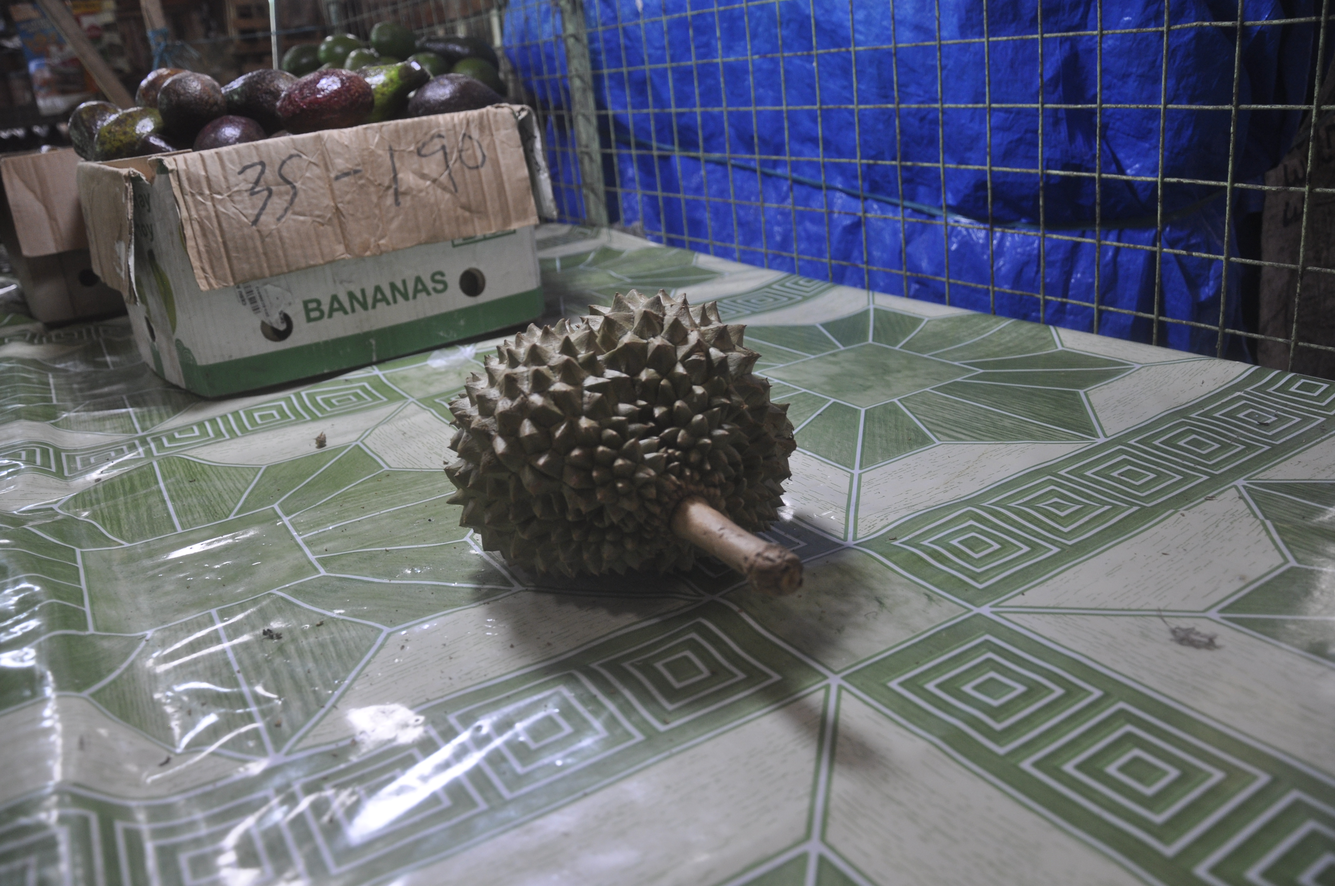mature: (446, 290, 803, 608)
